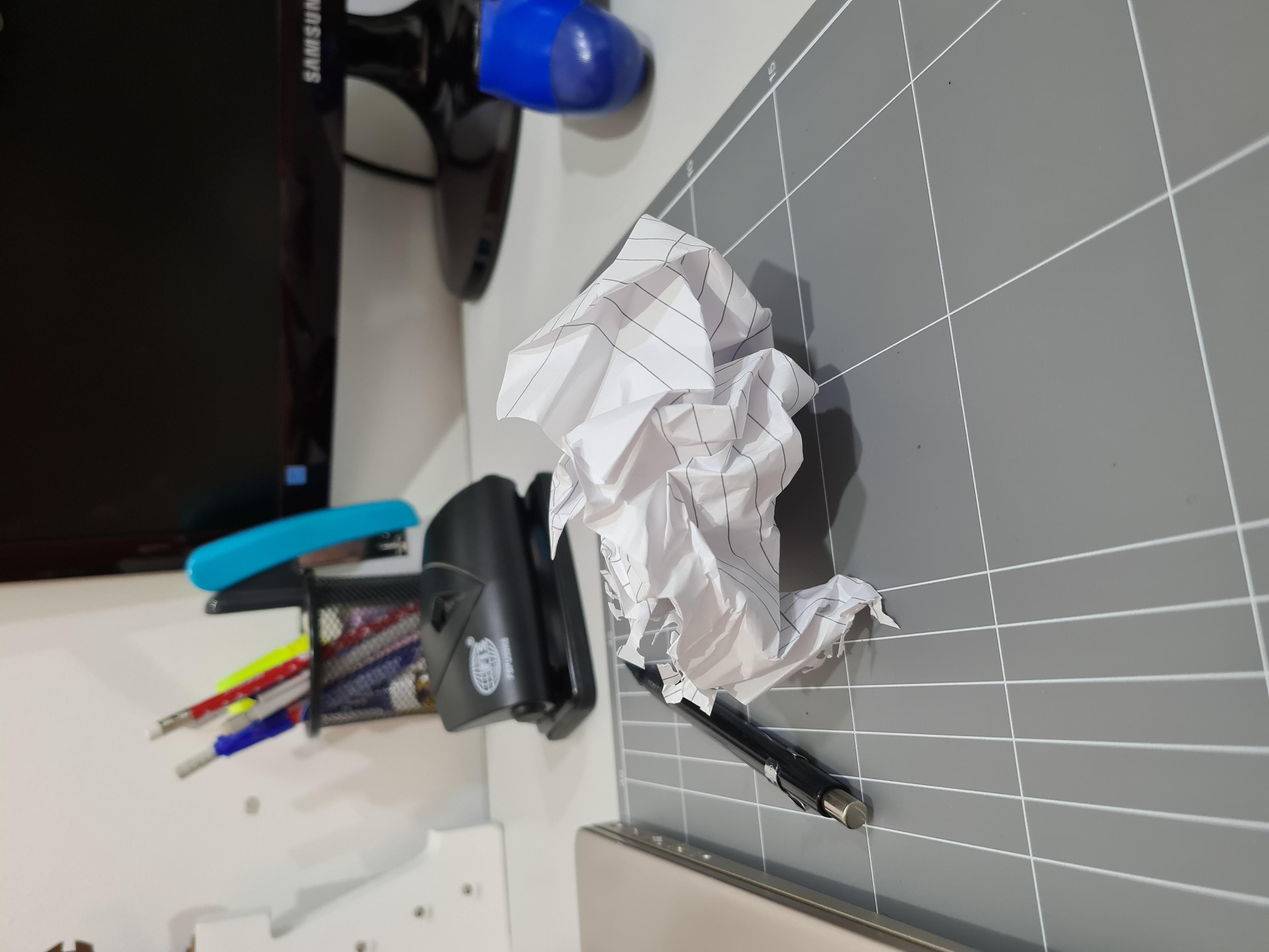paper: (332, 364, 1021, 657)
